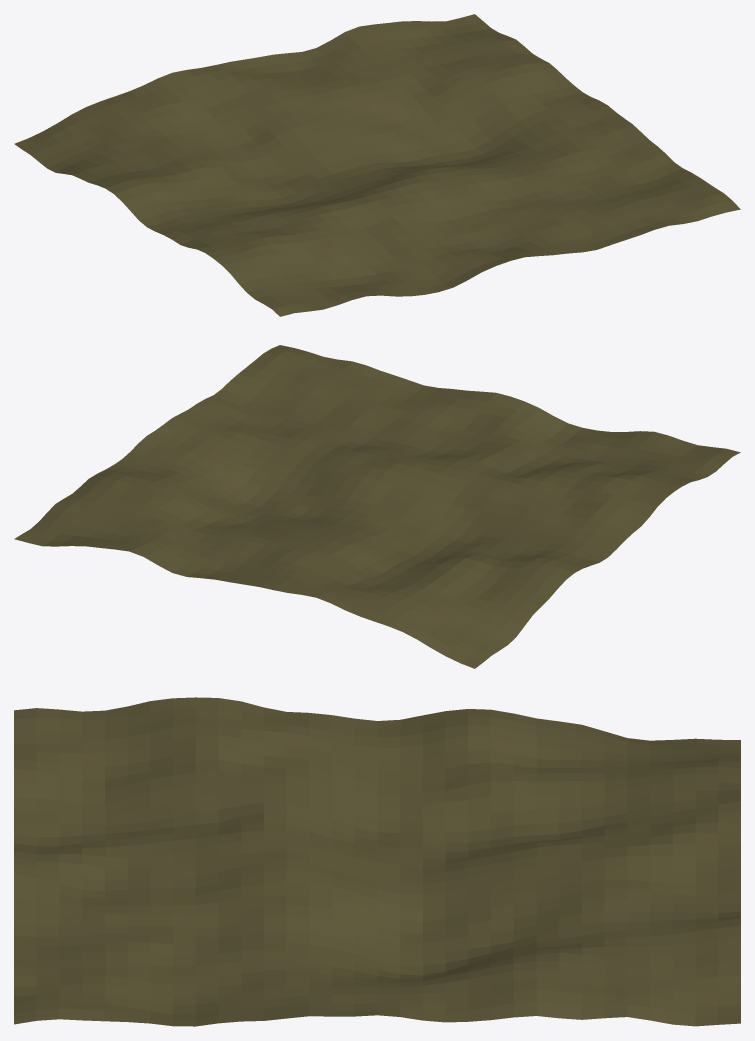
File: dirt.fbx
3 renders of one model, top to bottom at view 1: azimuth 30°, elevation 25°; view 2: azimuth 150°, elevation 25°; view 3: azimuth 270°, elevation 25°, orthographic. The views are drawn at different scales.
Visible parts, largest first — view 1: Plane.001; view 2: Plane.001; view 3: Plane.001.
Part boxes in pixels (x1=…): Plane.001: x1=14, y1=14, x2=740, y2=316; Plane.001: x1=14, y1=345, x2=740, y2=668; Plane.001: x1=14, y1=697, x2=740, y2=1026.
Bounding box in the file's own units: 5000 × 382 × 5000.
